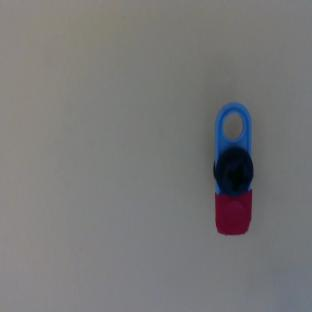part_1_good: (214, 103, 253, 235)
